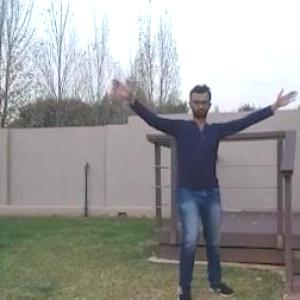takeoff: (112, 81, 292, 298)
